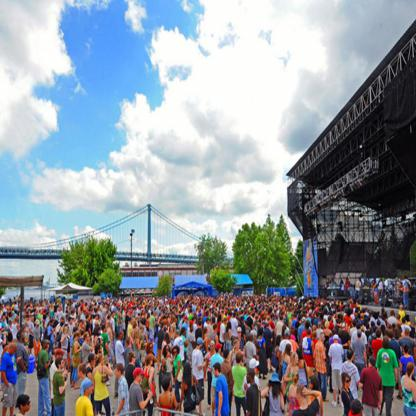face: (25, 402, 31, 411), (116, 369, 120, 379), (89, 386, 94, 394), (247, 373, 251, 382), (347, 379, 351, 387), (62, 361, 66, 368), (174, 350, 178, 357), (140, 374, 143, 383), (12, 349, 16, 355), (166, 349, 170, 355), (122, 332, 125, 340), (296, 356, 299, 364), (79, 369, 82, 377), (88, 373, 92, 379), (215, 369, 218, 376), (151, 346, 154, 352), (88, 336, 91, 342), (100, 348, 103, 354), (211, 345, 214, 351), (239, 331, 242, 337), (323, 336, 326, 342), (134, 356, 137, 362), (48, 344, 51, 350), (237, 343, 240, 349), (3, 317, 6, 322), (94, 359, 96, 365), (22, 336, 24, 342), (32, 317, 35, 321), (152, 359, 154, 365), (62, 319, 64, 323)
